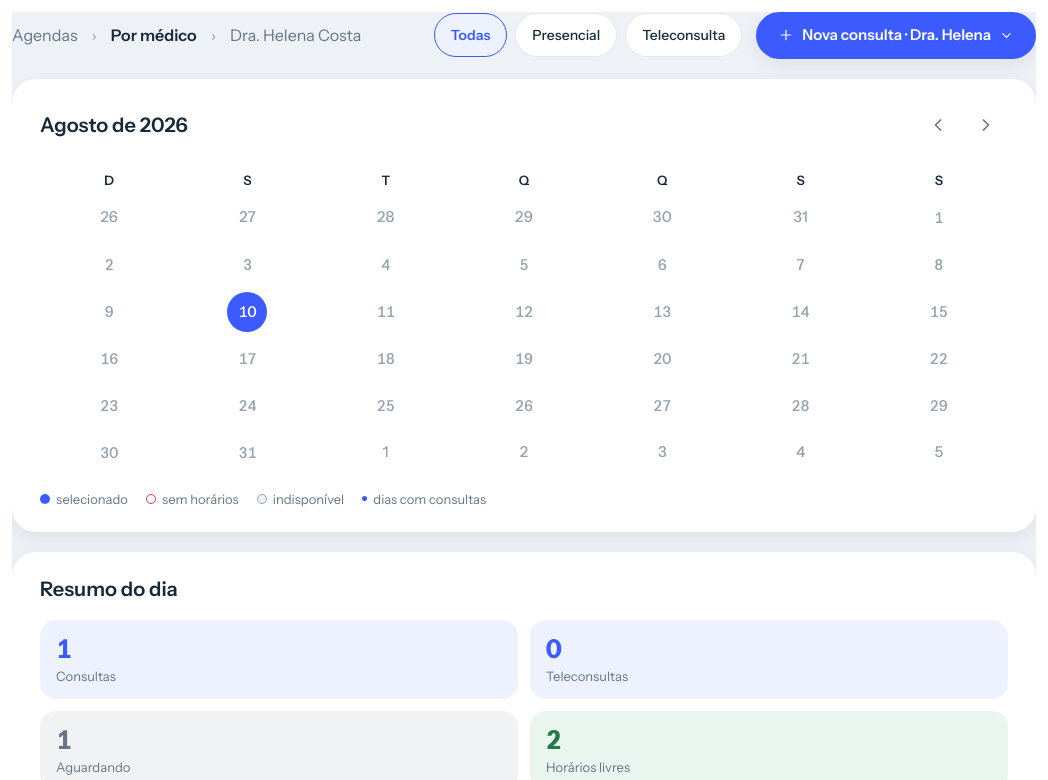
Test case: fecha o menu com Escape e devolve o foco ao gatilho
The image size is (1048, 780).
Step 1. Click the button "Nova consulta · Dra. Helena" → x=896, y=35, box [756,12,1036,58]
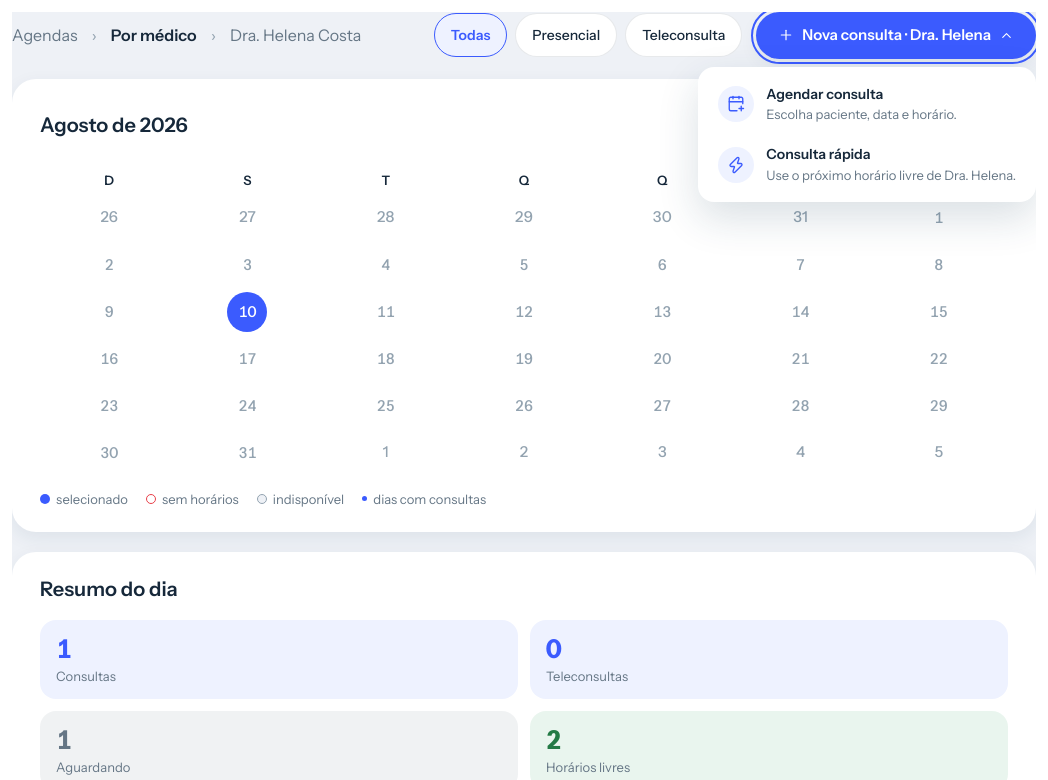
Check: the menu named "Nova consulta" is shown, box [698,66,1036,202]
Step 2. Press Escape
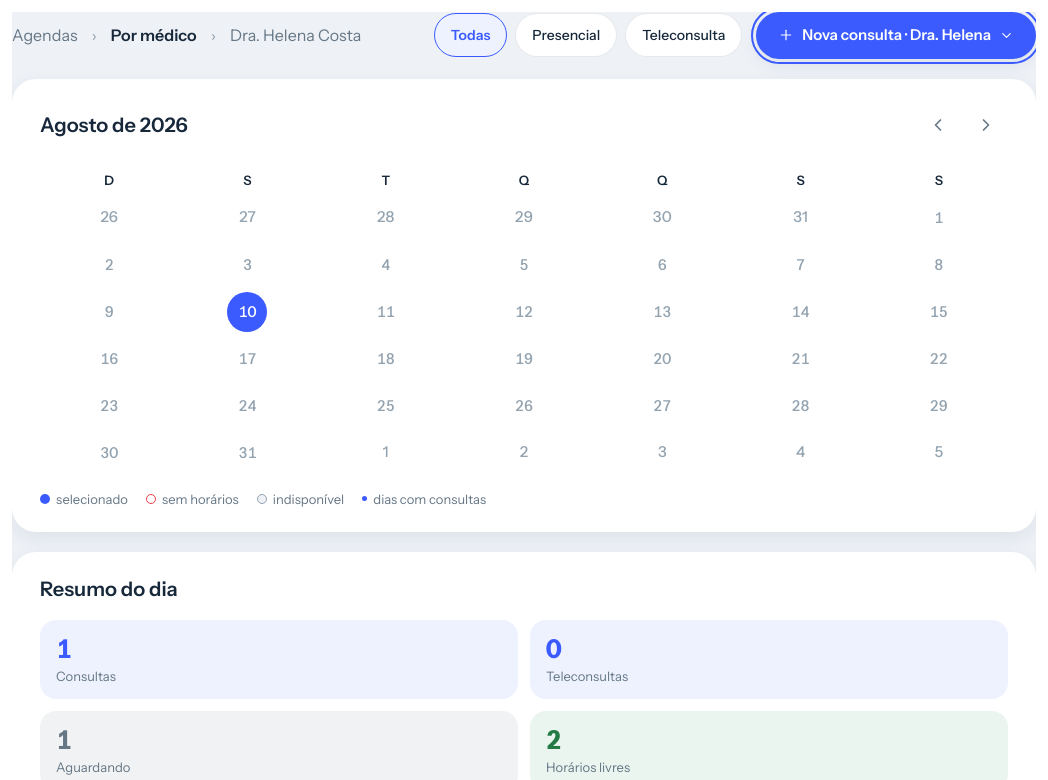
Check: the button "Nova consulta · Dra. Helena" is collapsed, box [756,12,1036,58]
